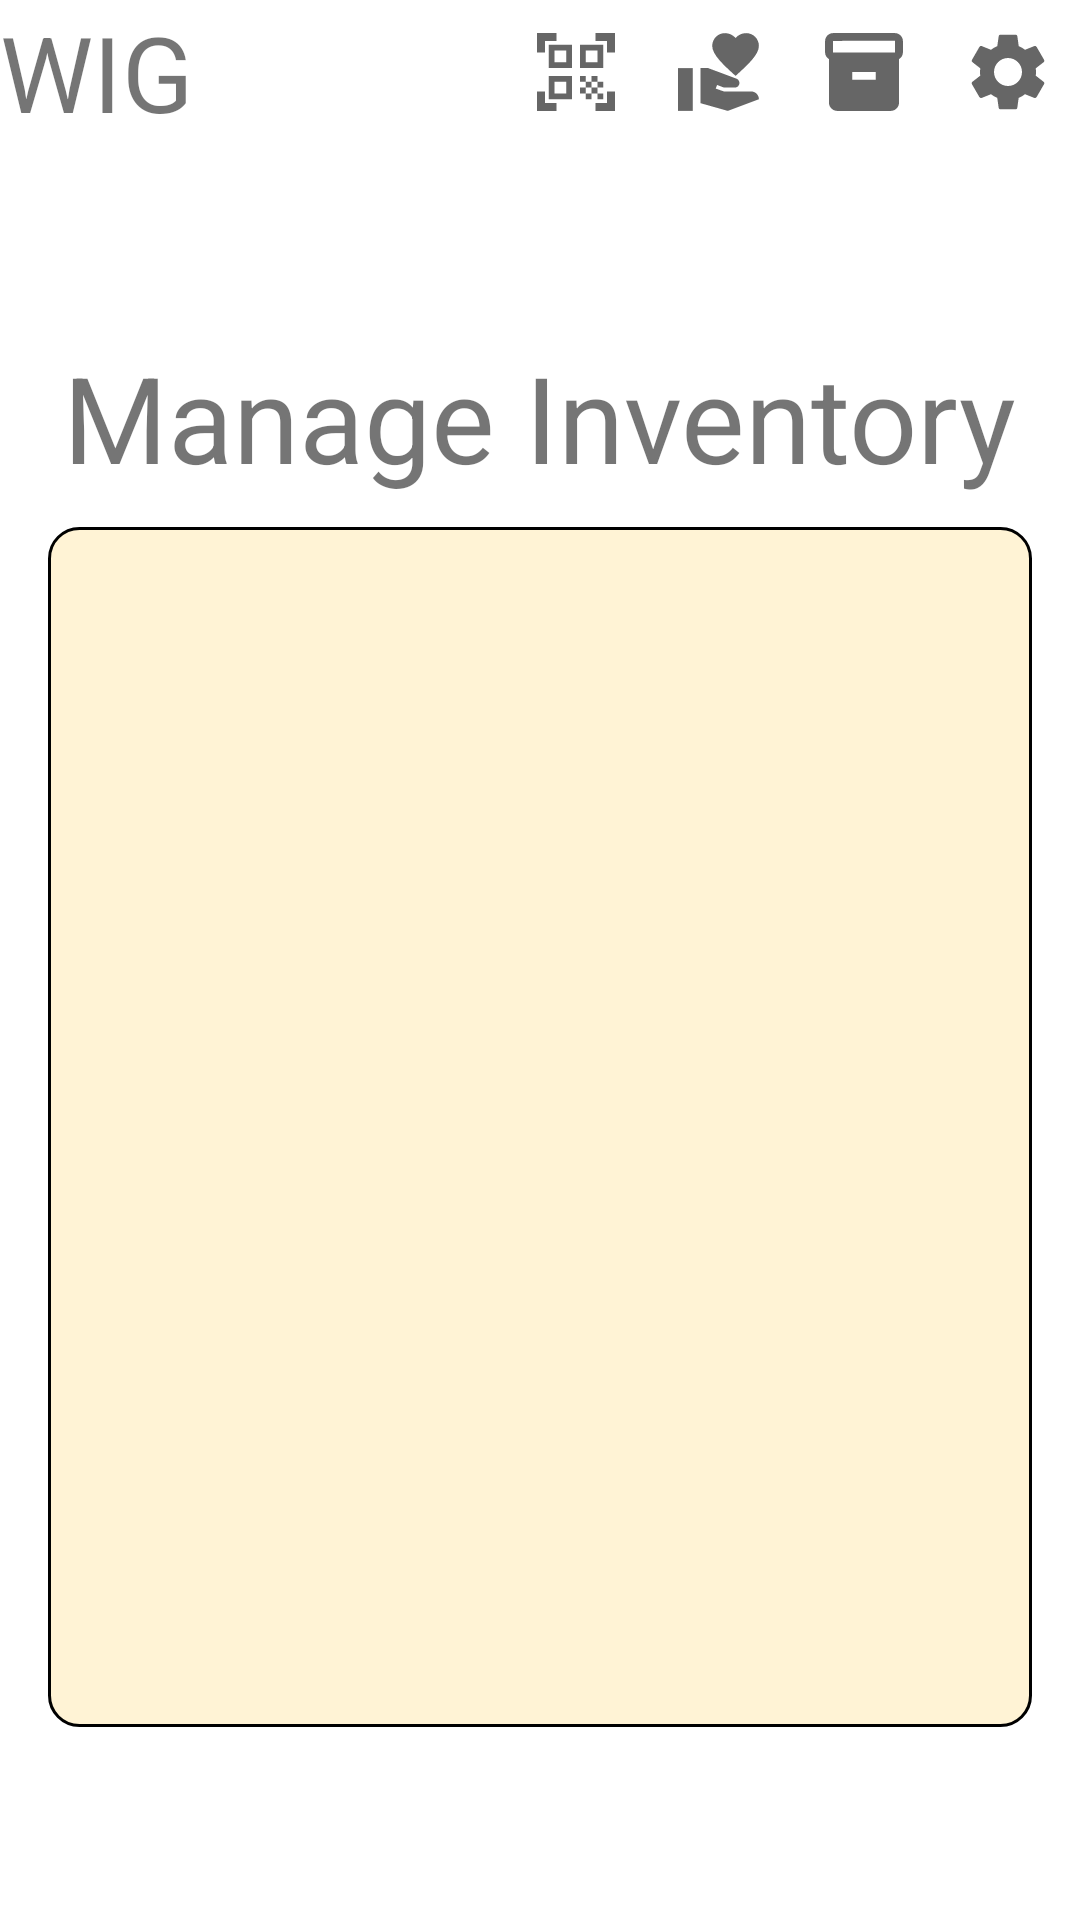

Locate icon controls on the screen. Image size 1080×1920, boxes as [x1=x1, y1=y1, x2=x2, y2=y2].
Borrowed Items: [x1=678, y1=33, x2=759, y2=111]
Manage Inventory: [x1=825, y1=33, x2=903, y2=111]
Scanner: [x1=537, y1=33, x2=615, y2=111]
Settings: [x1=971, y1=34, x2=1045, y2=110]
